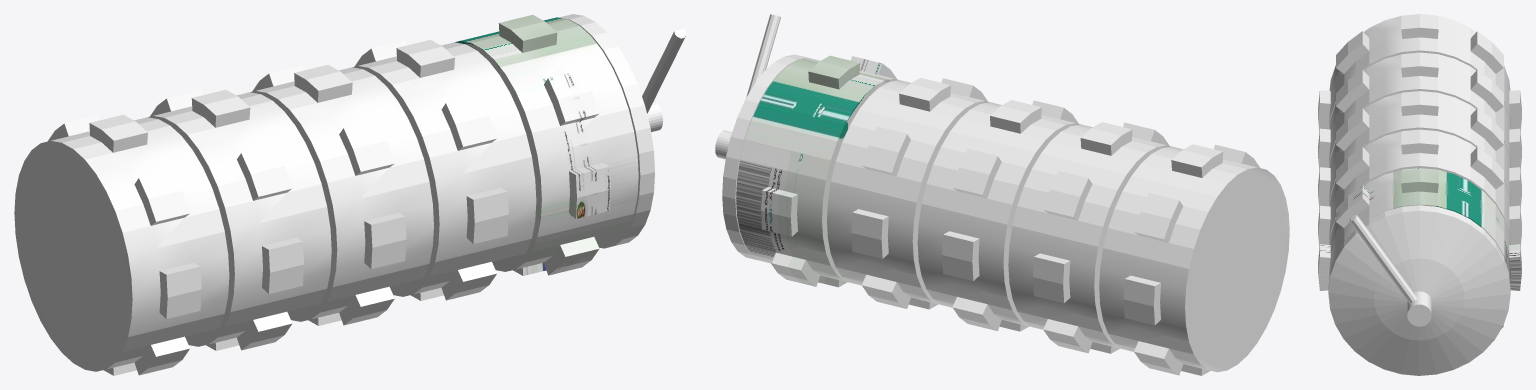
Rendered from roata_good_bes21t.glb.
3 views of the same model, side by side, from view 1: azimuth 30°, elevation 25°; view 2: azimuth 150°, elevation 25°; view 3: azimuth 270°, elevation 25° (orthographic). The views are drawn at different scales.
Visible parts, largest first — view 1: roata5, roata2, roata4, roata3, roata1, maneta, box1.002, box1.004, box1.003, box1.005, box1.001, box2.005 (+18 smaller); view 2: roata5, roata1, roata4, roata2, roata3, maneta, box7.002, box7.003, box7.004, box7.005, box6.001, box6.005 (+15 smaller); view 3: maneta, roata1, roata2, roata4, roata5, roata3, box8.002, box8.004, box8.001, box8.003, box8.005, box1.003 (+18 smaller).
Part boxes in pixels (x1,y1,x2,y2): roata5: [14, 117, 229, 371]; roata2: [353, 42, 536, 296]; roata4: [148, 92, 331, 346]; roata3: [250, 67, 433, 321]; roata1: [455, 17, 638, 271]; maneta: [559, 14, 686, 248]; box1.002: [441, 94, 496, 150]; box1.004: [237, 145, 292, 200]; box1.003: [339, 119, 394, 175]; box1.005: [134, 169, 189, 225]; box1.001: [544, 70, 599, 125]; box2.005: [159, 262, 201, 318]; roata5: [1099, 146, 1289, 372]; roata1: [736, 58, 898, 282]; roata4: [1008, 124, 1171, 348]; roata2: [827, 80, 989, 304]; roata3: [917, 102, 1079, 326]; maneta: [715, 14, 808, 260]; box7.002: [861, 126, 910, 176]; box7.003: [952, 149, 1001, 198]; box7.004: [1043, 171, 1092, 220]; box7.005: [1134, 193, 1183, 242]; box6.001: [760, 187, 797, 236]; box6.005: [1123, 275, 1160, 325]; maneta: [1328, 205, 1510, 375]; roata1: [1329, 168, 1510, 289]; roata2: [1329, 129, 1510, 244]; roata4: [1329, 52, 1510, 167]; roata5: [1329, 14, 1510, 129]; roata3: [1329, 91, 1510, 206]; box8.002: [1401, 130, 1438, 154]; box8.004: [1401, 53, 1438, 77]; box8.001: [1401, 169, 1438, 192]; box8.003: [1401, 92, 1438, 115]; box8.005: [1401, 15, 1438, 38]; box1.003: [1336, 108, 1369, 150].
Size of the model in its own units: 5.68 by 2.24 by 2.24.
Materials: 6 (1 with a texture image).
